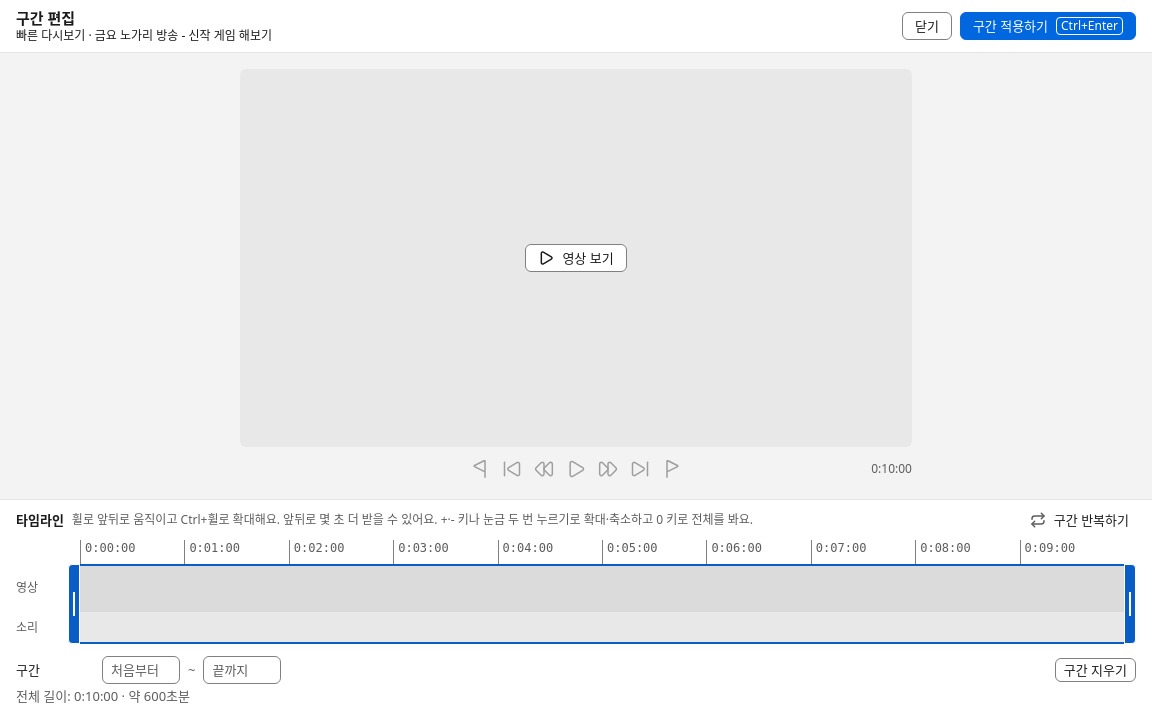
Test: 초안·적용(RE2~RE6) › 길이 줄: 전체는 "전체 길이", 구간이면 "구간 길이", 크기가 있으면 "길이 · 크기", 칸이 틀리면 줄이 없다
The width and height of the screenshot is (1152, 720).
Type "0:01:00" into the field named "시작 시각".
click(141, 670); type("0:01:00")  # box [102,656,180,684]
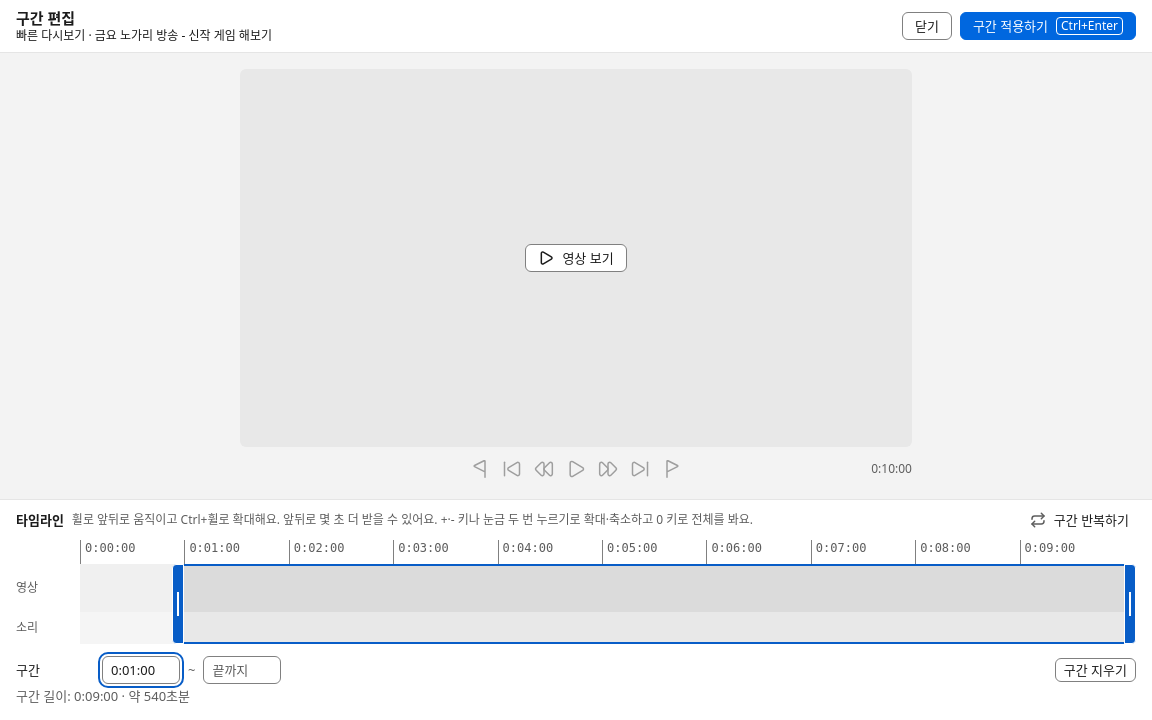
Replace the text in the field named "시작 시각" with "abc" at [141, 670], box [102,656,180,684]
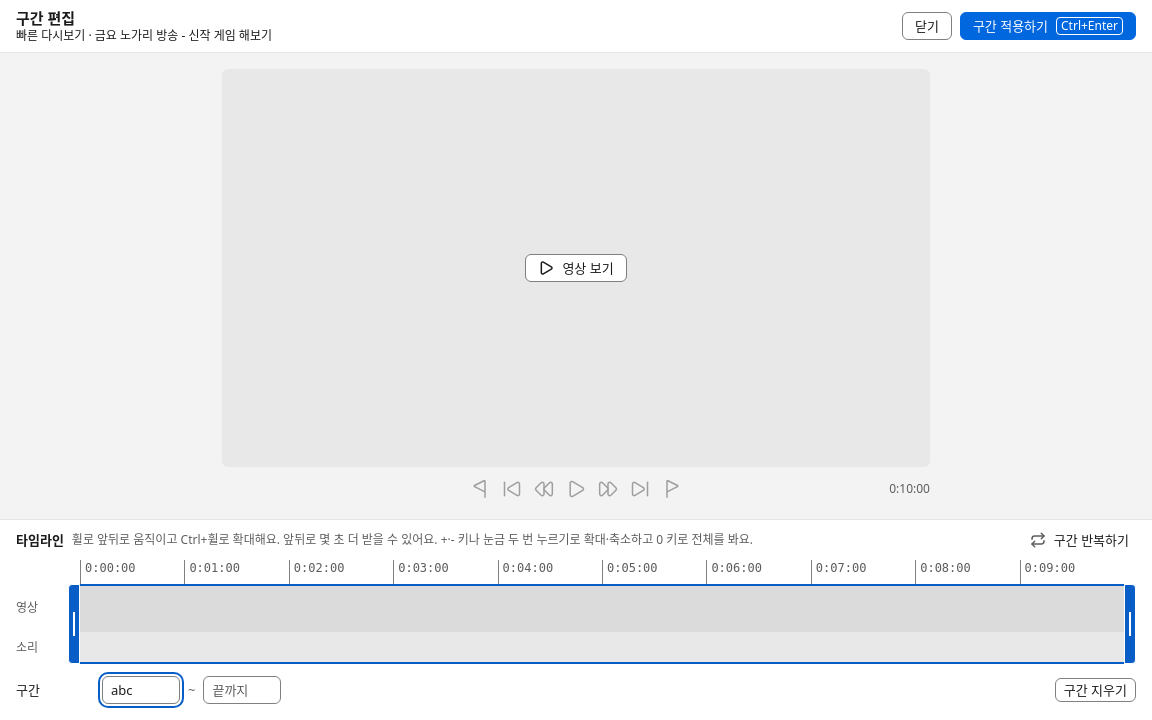
Check: the text with class "range-length" is gone
